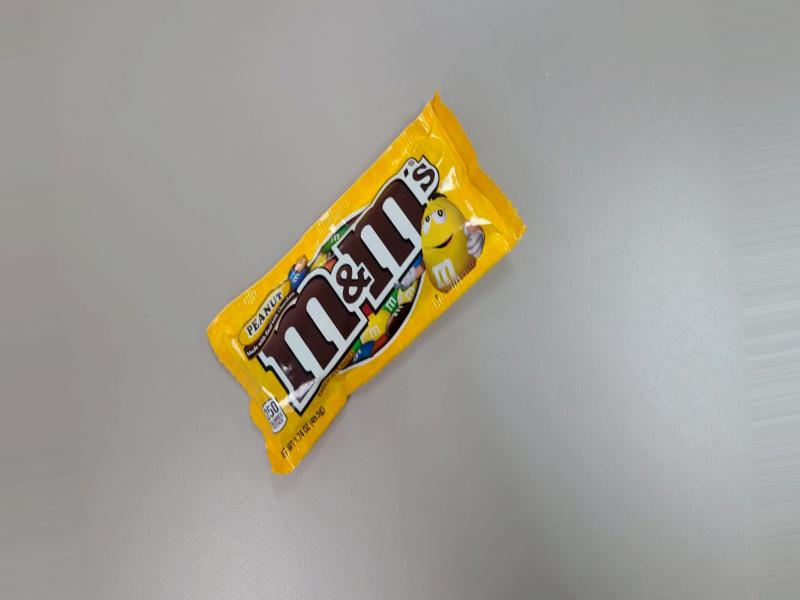m&m: (192, 62, 529, 503)
